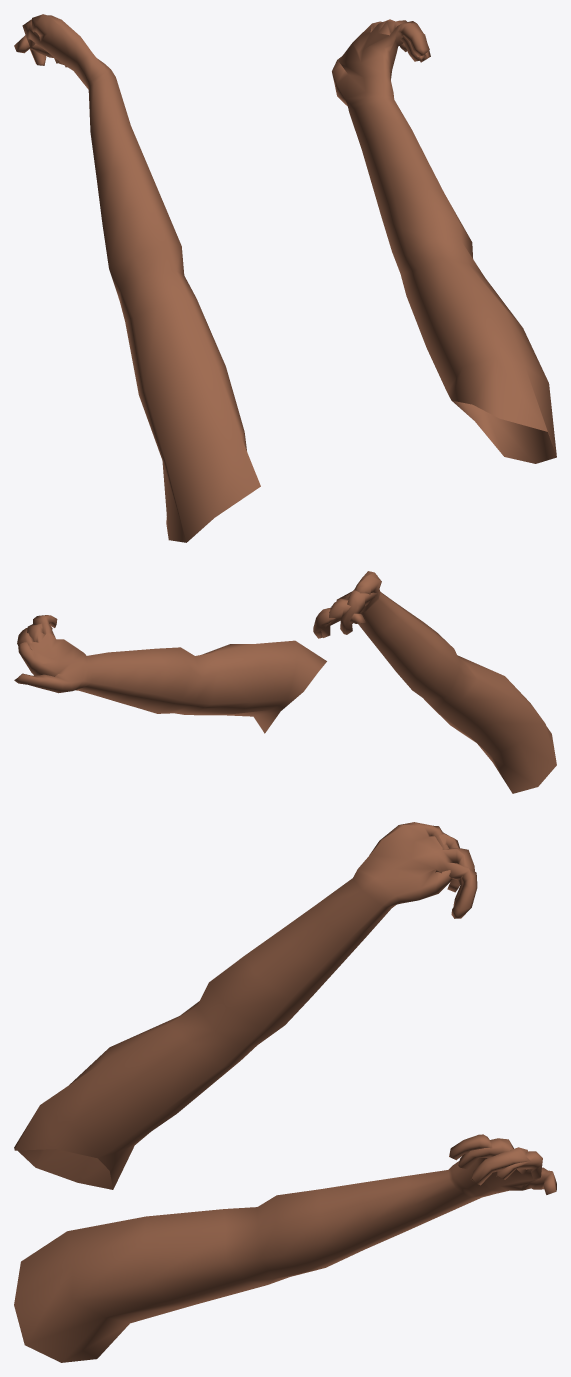
File: rifle-arms.glb
3 views of the same model, one above another, from view 1: azimuth 30°, elevation 25°; view 2: azimuth 150°, elevation 25°; view 3: azimuth 270°, elevation 25° (orthographic). The views are drawn at different scales.
Parts seen in each view (by area): view 1: posed_fps_arms; view 2: posed_fps_arms; view 3: posed_fps_arms.
Part boxes in pixels (bbox=[...]): posed_fps_arms: bbox=[14, 14, 556, 542]; posed_fps_arms: bbox=[14, 571, 556, 793]; posed_fps_arms: bbox=[14, 822, 556, 1362].
Bounding box in the file's own units: 1.37 × 1.1 × 1.37.
